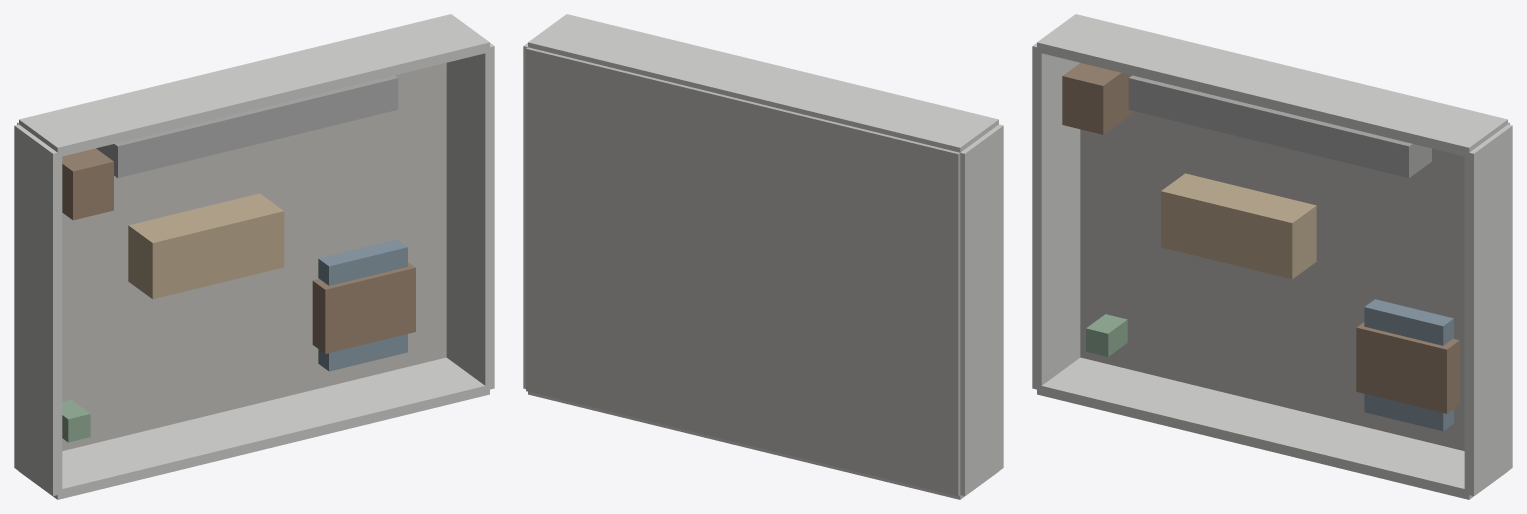
Rendered from sample_5_kitchen.glb.
3 views of the same model, side by side, from view 1: azimuth 30°, elevation 25°; view 2: azimuth 150°, elevation 25°; view 3: azimuth 330°, elevation 25° (orthographic).
Visible parts, largest first — view 1: floor, wall_north, wall_south, wall_west, wall_east, island, cabinet_wall, dining_table, pantry, bench_a, bench_b, plant_corner; view 2: floor, wall_north, wall_west, wall_south, wall_east; view 3: floor, wall_north, wall_south, wall_east, wall_west, island, cabinet_wall, dining_table, pantry, bench_a, bench_b, plant_corner.
Part boxes in pixels (bbox=[...]): floor: bbox=[17, 63, 446, 450]; wall_north: bbox=[19, 14, 489, 157]; wall_south: bbox=[19, 357, 489, 499]; wall_west: bbox=[14, 124, 62, 495]; wall_east: bbox=[446, 43, 494, 390]; island: bbox=[128, 193, 284, 299]; cabinet_wall: bbox=[96, 75, 398, 177]; dining_table: bbox=[312, 262, 415, 353]; pantry: bbox=[62, 148, 113, 220]; bench_a: bbox=[318, 239, 407, 285]; bench_b: bbox=[318, 334, 407, 371]; plant_corner: bbox=[62, 399, 90, 442]; floor: bbox=[526, 47, 960, 496]; wall_north: bbox=[528, 14, 998, 152]; wall_west: bbox=[960, 124, 1003, 495]; wall_south: bbox=[528, 391, 998, 499]; wall_east: bbox=[523, 43, 527, 388]; floor: bbox=[1080, 111, 1509, 450]; wall_north: bbox=[1037, 14, 1507, 157]; wall_south: bbox=[1037, 357, 1507, 499]; wall_east: bbox=[1464, 124, 1512, 495]; wall_west: bbox=[1032, 43, 1080, 390]; island: bbox=[1161, 173, 1316, 279]; cabinet_wall: bbox=[1128, 75, 1431, 177]; dining_table: bbox=[1356, 322, 1459, 413]; pantry: bbox=[1062, 63, 1134, 134]; bench_a: bbox=[1364, 299, 1453, 345]; bench_b: bbox=[1364, 394, 1453, 431]; plant_corner: bbox=[1086, 314, 1127, 356].
Size of the model in its own units: 7.56 by 5.76 by 1.21.
